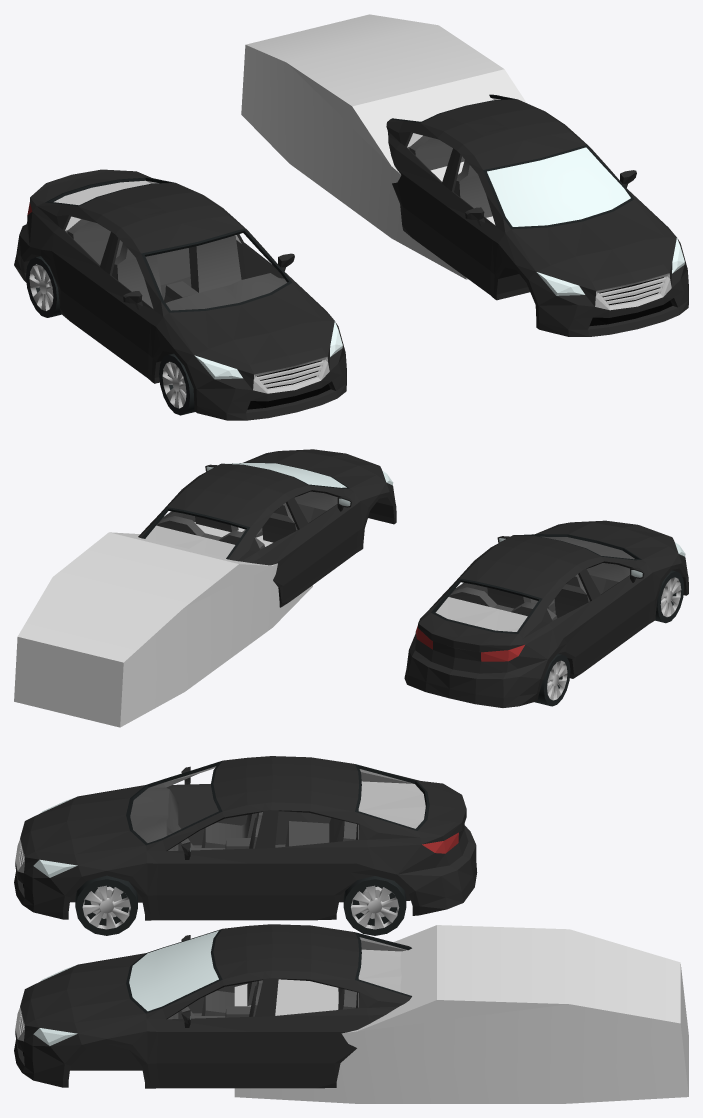
Rendered from CarSedan.FBX.
3 views of the same model, one above another, from view 1: azimuth 30°, elevation 25°; view 2: azimuth 150°, elevation 25°; view 3: azimuth 270°, elevation 25° (orthographic). The views are drawn at different scales.
Parts seen in each view (by area): view 1: CarSedanWWheels, CarSedan, SedanShadows, CarSedanGlassFront; view 2: CarSedanWWheels, SedanShadows, CarSedan, CarSedanGlassFront; view 3: CarSedanWWheels, SedanShadows, CarSedan, CarSedanGlassFront.
Part boxes in pixels (left/top/right/bottom): CarSedanWWheels: left=14, top=169, right=346, bottom=420; CarSedan: left=386, top=94, right=688, bottom=336; SedanShadows: left=241, top=14, right=526, bottom=279; CarSedanGlassFront: left=487, top=147, right=630, bottom=226; CarSedanWWheels: left=404, top=520, right=688, bottom=707; SedanShadows: left=14, top=522, right=312, bottom=727; CarSedan: left=138, top=449, right=396, bottom=607; CarSedanGlassFront: left=225, top=463, right=346, bottom=487; CarSedanWWheels: left=14, top=756, right=477, bottom=935; SedanShadows: left=234, top=925, right=688, bottom=1103; CarSedan: left=14, top=924, right=411, bottom=1088; CarSedanGlassFront: left=129, top=930, right=218, bottom=1011.
Bounding box in the file's own units: 0.1906 × 0.2154 × 0.0534.
1 material, 1 textured.
